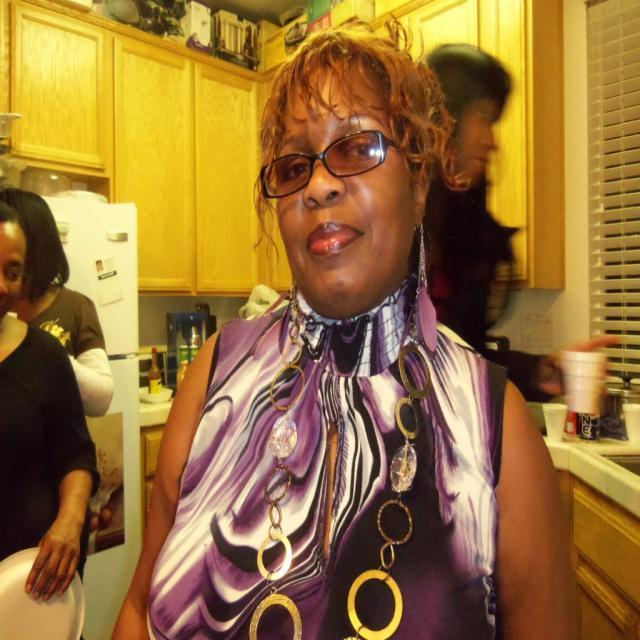closed-mouth: (305, 219, 364, 258)
